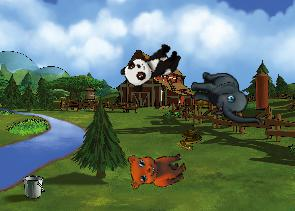bear: (122, 139, 190, 196)
elephant: (190, 70, 261, 128)
panda: (118, 37, 185, 95)
